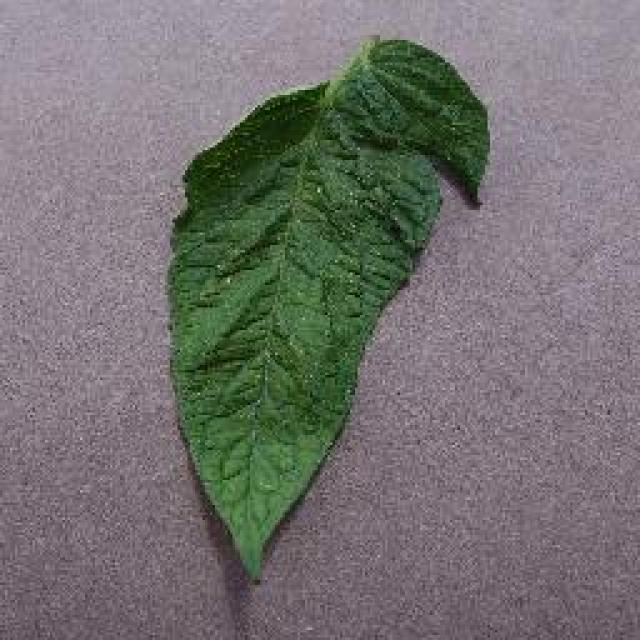Tomato___Spider_mites Two-spotted_spider_mite: (170, 38, 488, 578)
